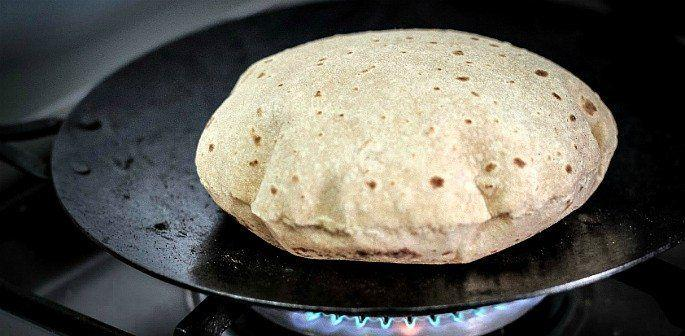chapati: (195, 29, 617, 263)
